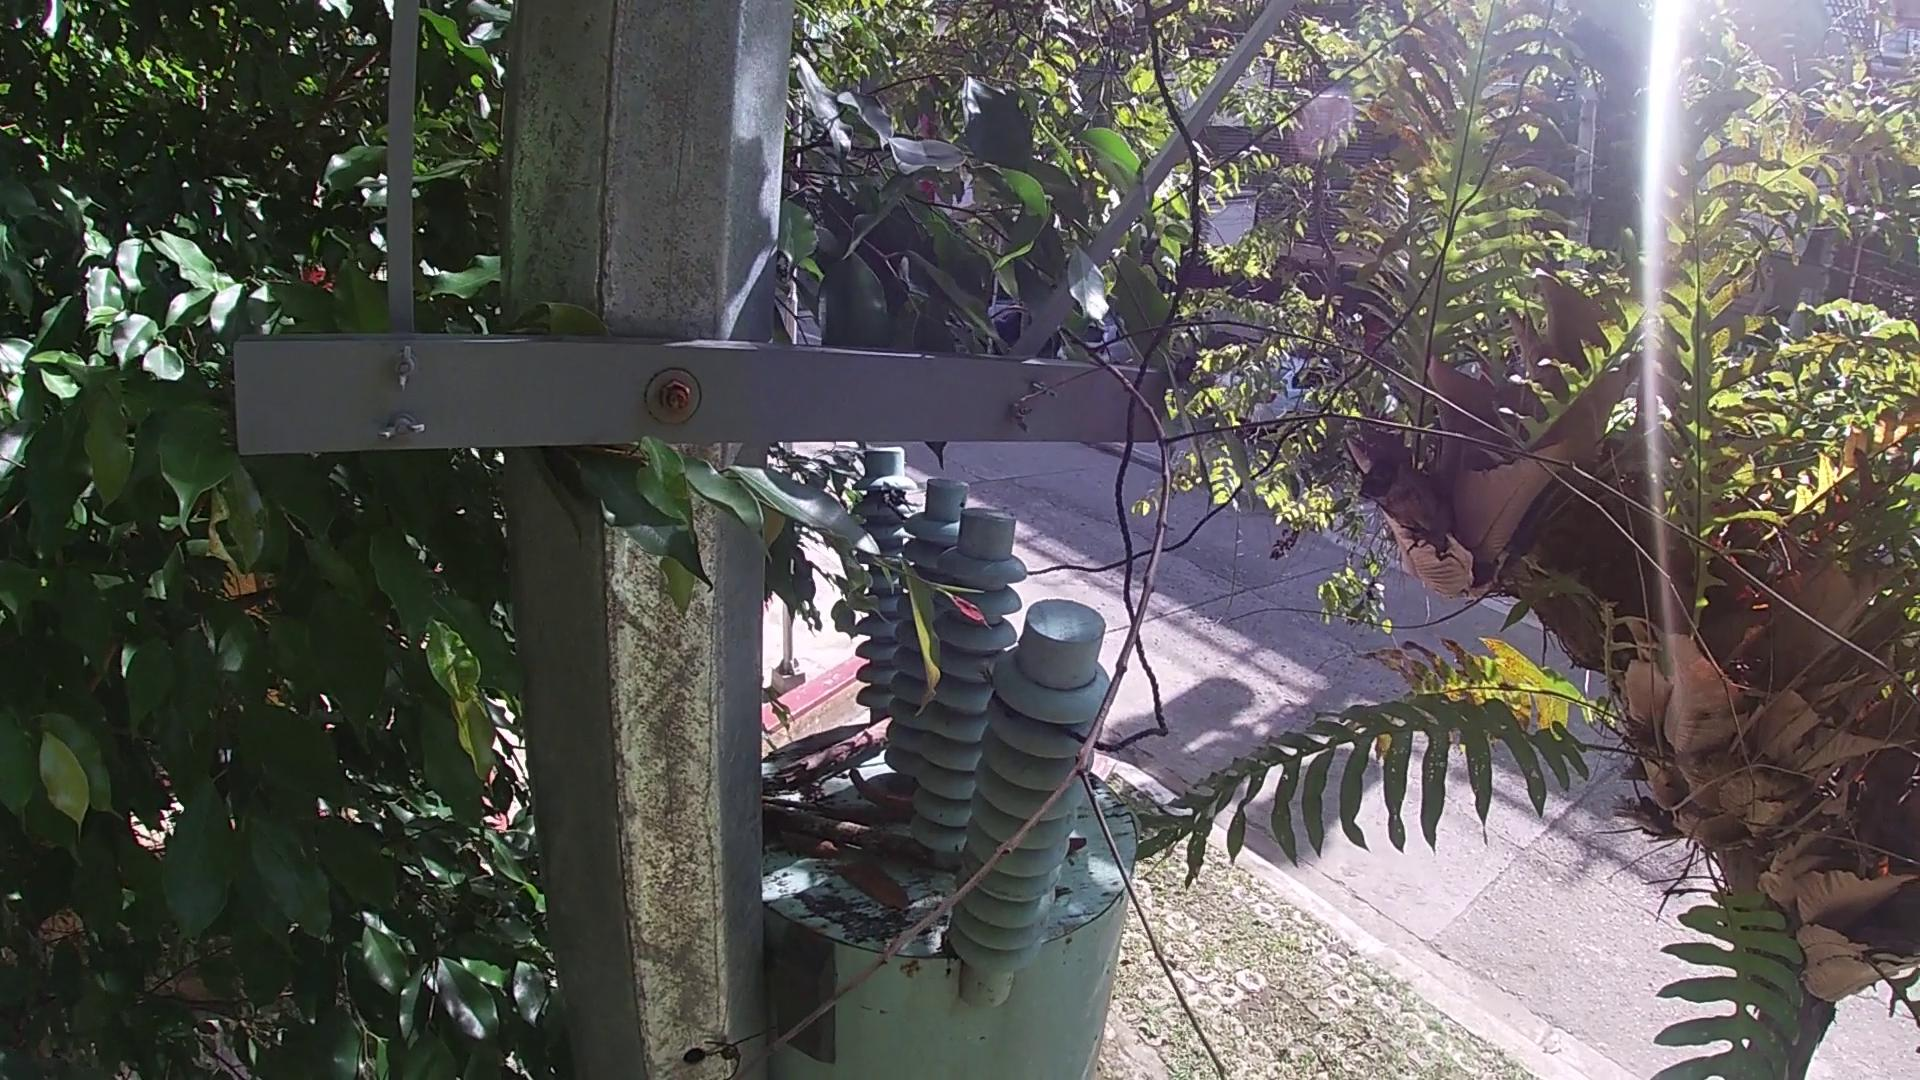leaf: (829, 870, 910, 920), (775, 839, 843, 858)
mahogany fruit: (837, 761, 920, 807), (1069, 829, 1095, 865)
tree branch: (778, 287, 1908, 1065), (750, 807, 957, 874), (767, 704, 903, 785), (756, 796, 927, 823)
